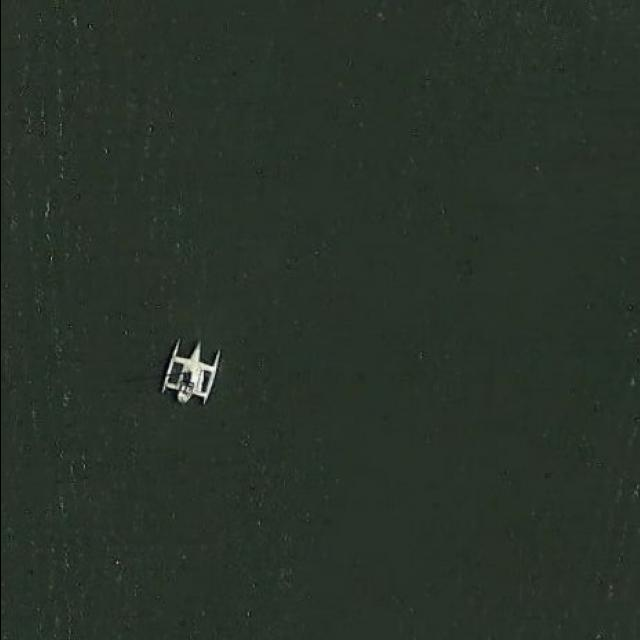ship: (160, 334, 225, 404)
